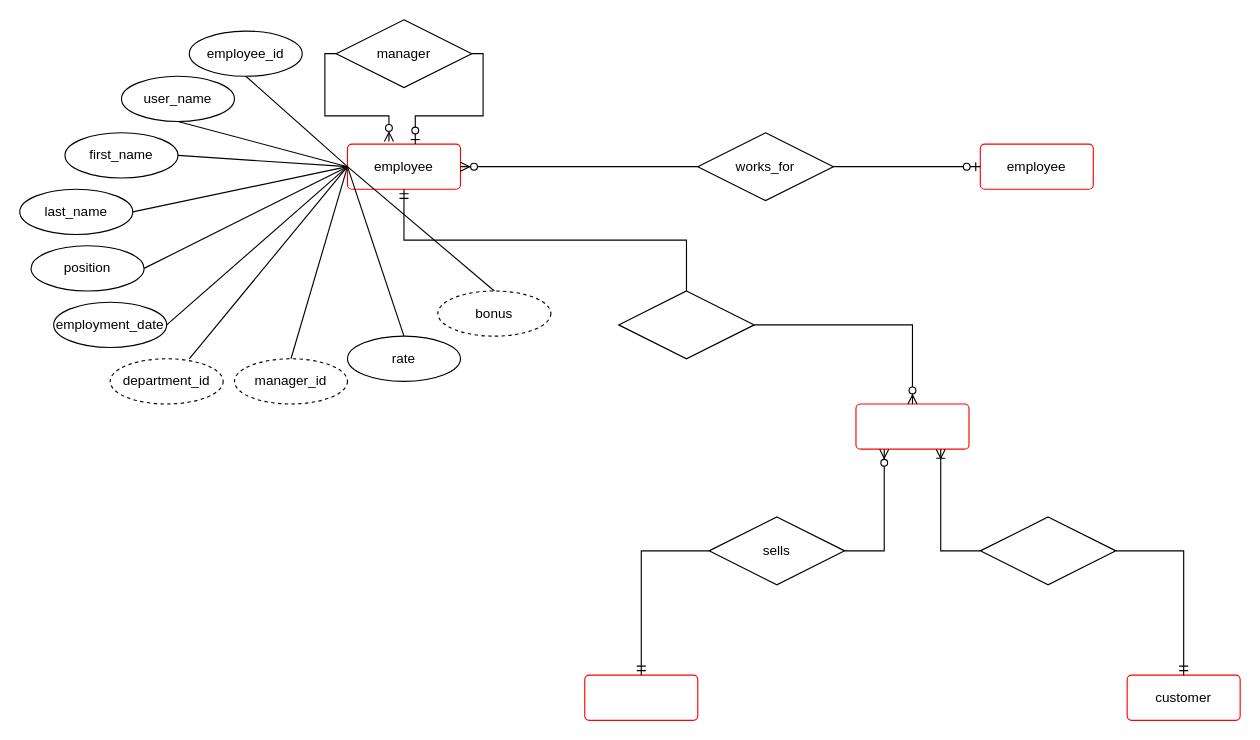
Some shapes in this 1260 by 740 pixel diagram are drawn without their labels. Here are the shapes that lost their labels. From the top down, the centre of each, then its label:
At (686,324): "places".
At (912,426): "orders".
At (1047,550): "buys".
At (641,697): "product".
